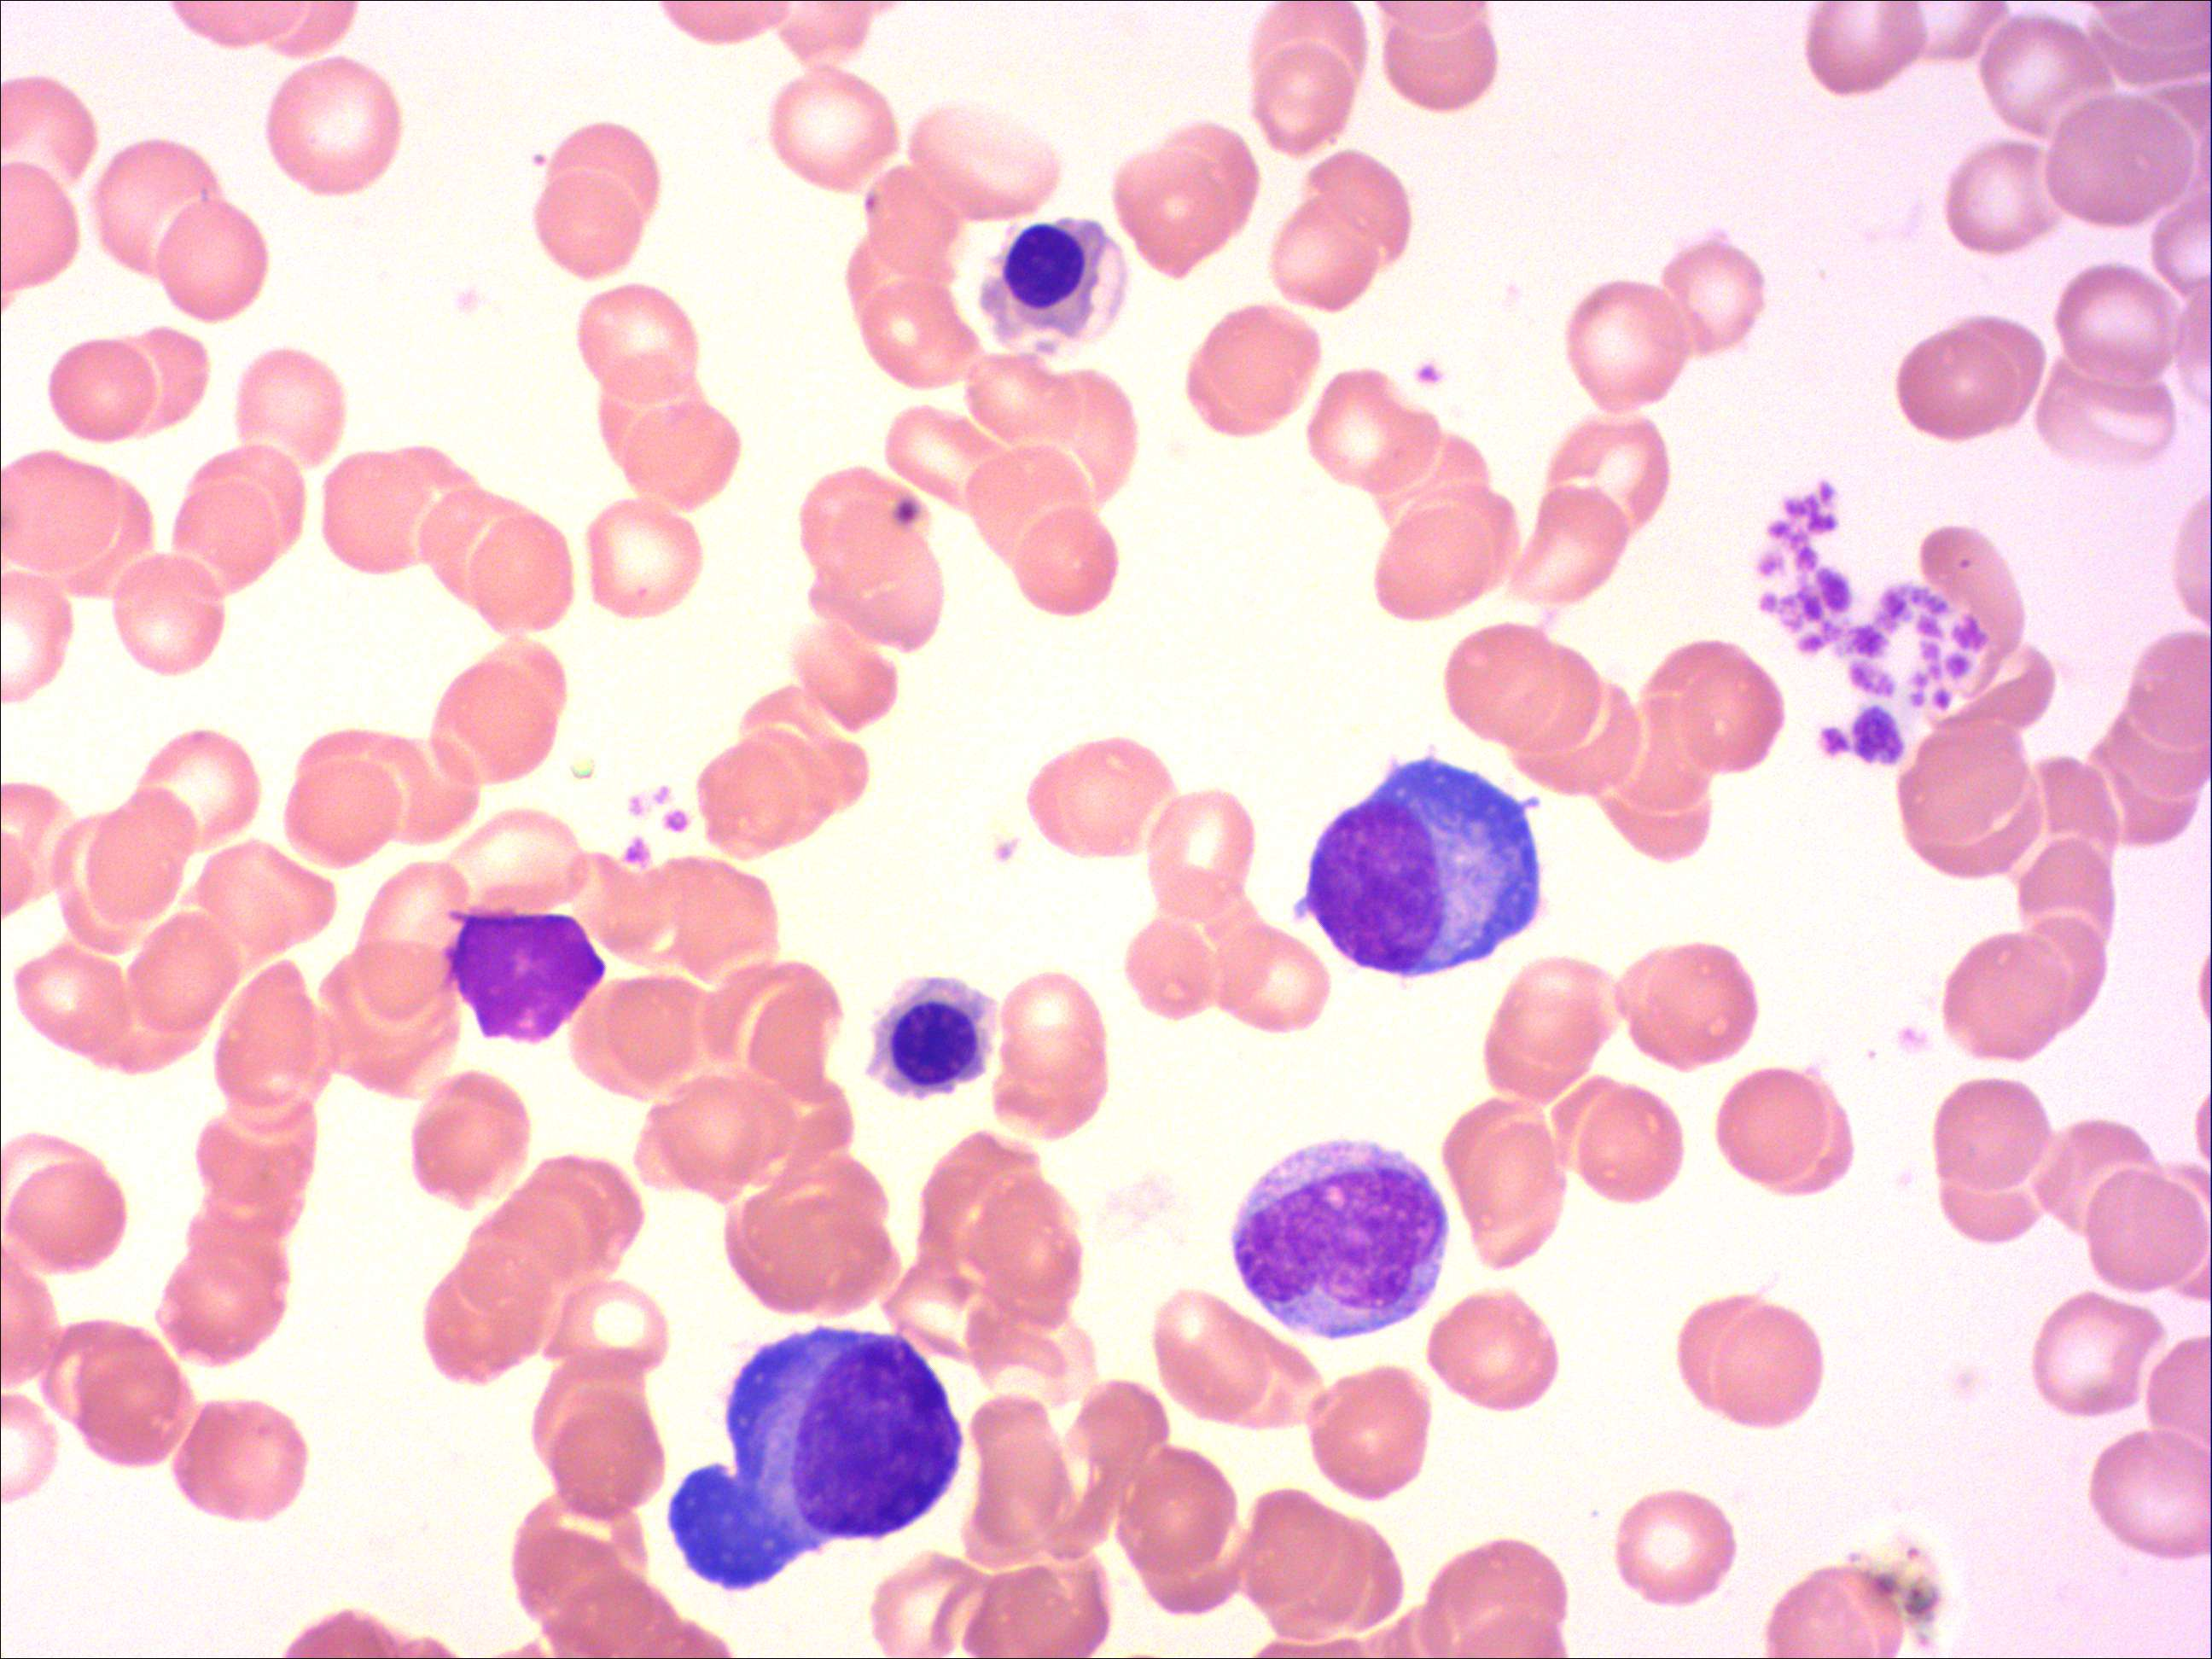24: (975, 209, 1137, 366), (860, 971, 1010, 1105)
42: (1226, 1134, 1453, 1345)
51: (665, 1323, 970, 1596), (1285, 746, 1548, 986)
x: (441, 901, 613, 1051)
